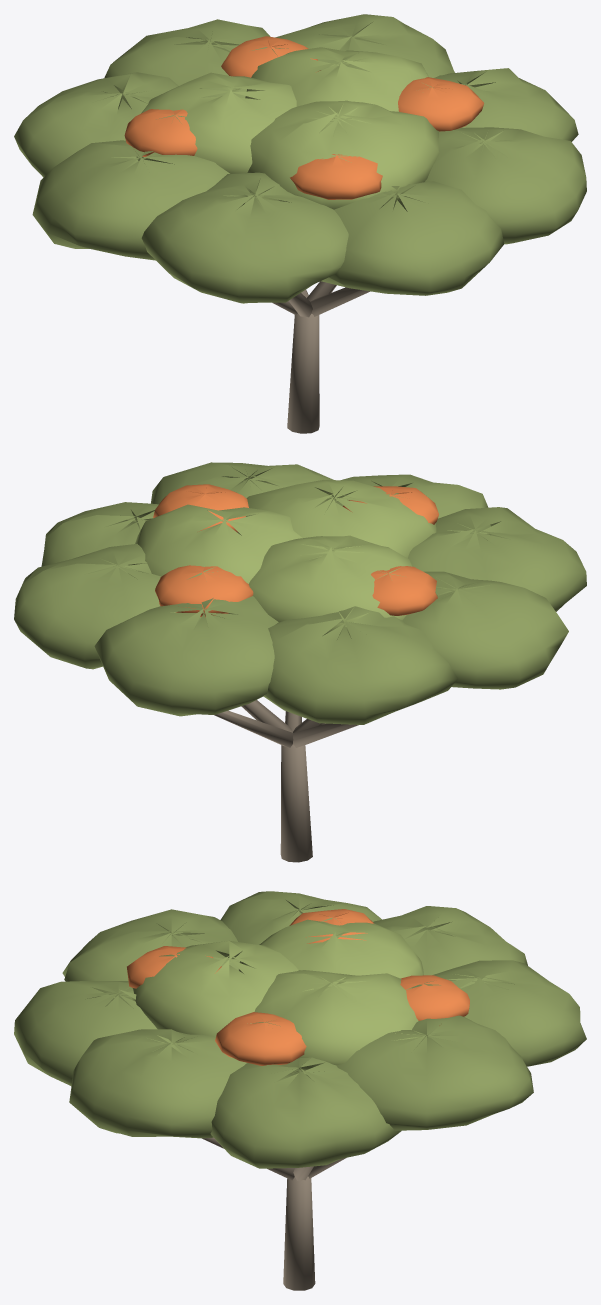
File: flame-tree.glb
3 renders of one model, top to bottom at view 1: azimuth 30°, elevation 25°; view 2: azimuth 150°, elevation 25°; view 3: azimuth 270°, elevation 25°, orthographic. The views are drawn at different scales.
Visible parts, largest first — view 1: flame-tree_canopy_flame-tree_shade, flame-tree_canopy_flame-tree, flame-tree_canopy_flame_bloom, flame-tree_canopy_bark; view 2: flame-tree_canopy_flame-tree_shade, flame-tree_canopy_flame-tree, flame-tree_canopy_flame_bloom, flame-tree_canopy_bark; view 3: flame-tree_canopy_flame-tree_shade, flame-tree_canopy_flame-tree, flame-tree_canopy_flame_bloom, flame-tree_canopy_bark.
Part boxes in pixels (bbox=[...]): flame-tree_canopy_flame-tree_shade: bbox=[14, 14, 586, 303]; flame-tree_canopy_flame-tree: bbox=[136, 47, 439, 209]; flame-tree_canopy_flame_bloom: bbox=[124, 36, 484, 199]; flame-tree_canopy_bark: bbox=[272, 281, 370, 433]; flame-tree_canopy_flame-tree_shade: bbox=[14, 462, 586, 724]; flame-tree_canopy_flame-tree: bbox=[127, 480, 436, 639]; flame-tree_canopy_flame_bloom: bbox=[153, 484, 438, 617]; flame-tree_canopy_bark: bbox=[214, 700, 358, 862]; flame-tree_canopy_flame-tree_shade: bbox=[14, 891, 586, 1168]; flame-tree_canopy_flame-tree: bbox=[130, 919, 427, 1073]; flame-tree_canopy_flame_bloom: bbox=[127, 909, 469, 1065]; flame-tree_canopy_bark: bbox=[202, 1137, 345, 1290].
Size of the model in its own units: 19.48 by 12.49 by 19.69.
